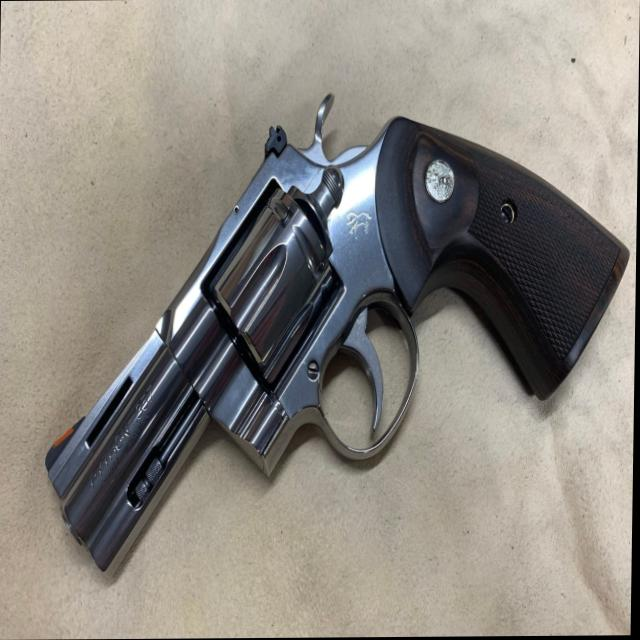handgun: (46, 94, 632, 576)
